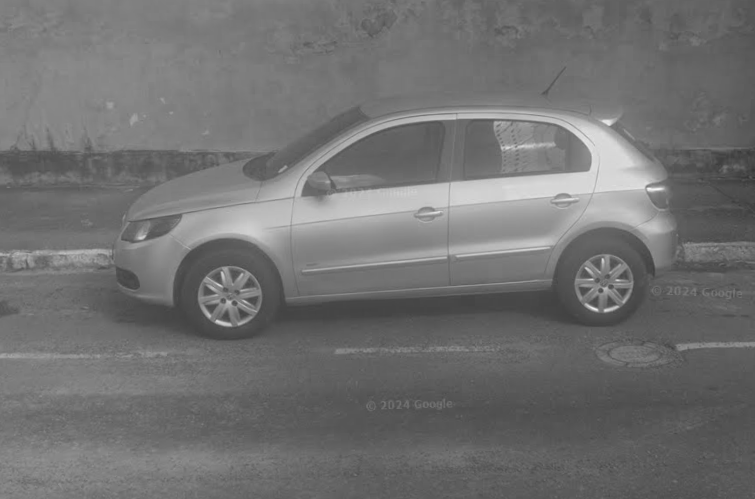car: (107, 64, 682, 346)
